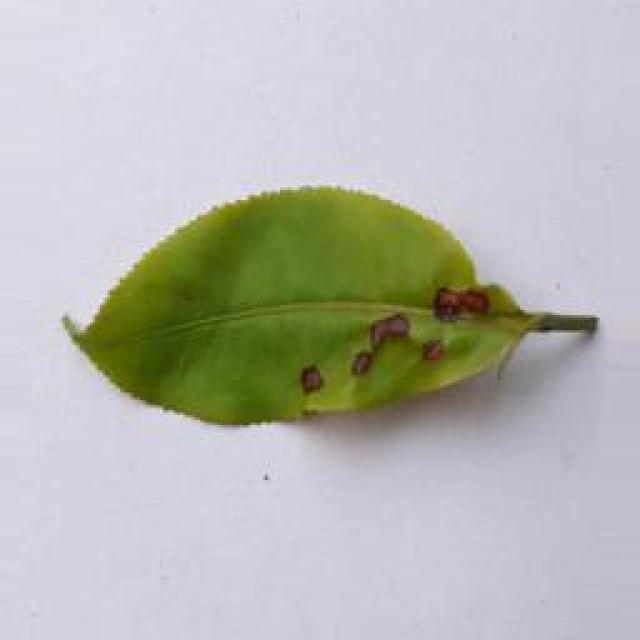Helopeltis: (62, 183, 605, 433)
